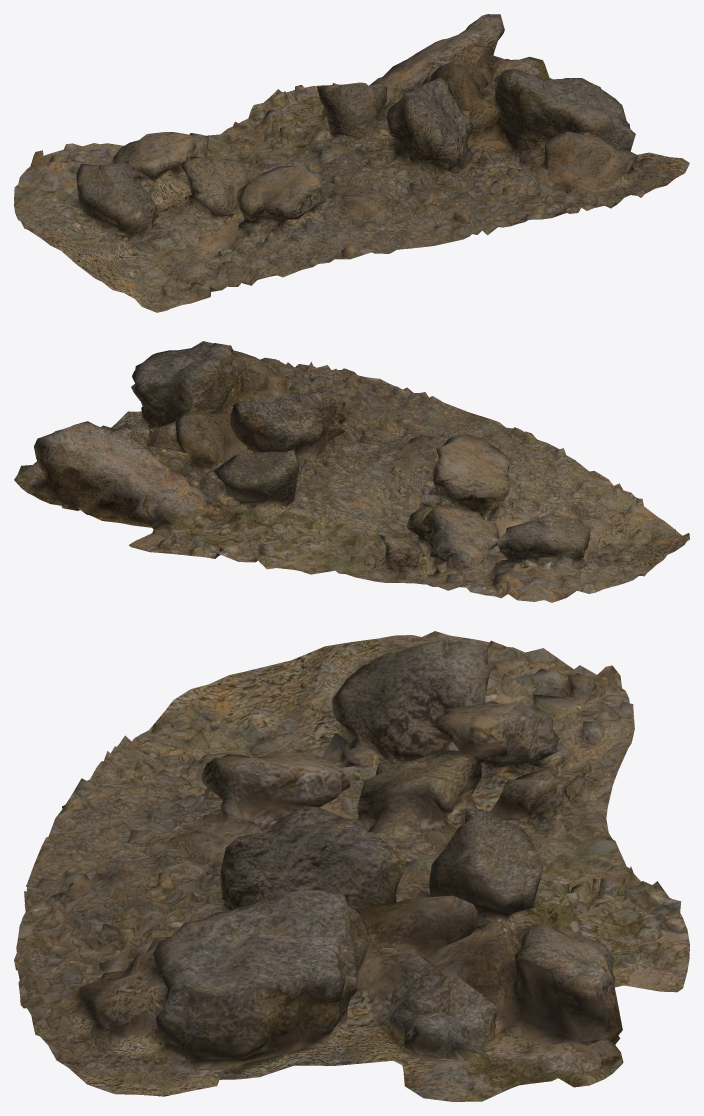
The model's file is coast-rocks-c.glb.
The picture shows the model from 3 angles, top to bottom: view 1: azimuth 30°, elevation 25°; view 2: azimuth 150°, elevation 25°; view 3: azimuth 270°, elevation 25°; orthographic projection. The views are drawn at different scales.
Parts seen in each view (by area): view 1: Coastal limestone - Poly Haven Coast Land Rocks 03; view 2: Coastal limestone - Poly Haven Coast Land Rocks 03; view 3: Coastal limestone - Poly Haven Coast Land Rocks 03.
Boxes of the visible parts, left/top/right/bottom form: Coastal limestone - Poly Haven Coast Land Rocks 03: left=14, top=14, right=689, bottom=312; Coastal limestone - Poly Haven Coast Land Rocks 03: left=14, top=341, right=689, bottom=602; Coastal limestone - Poly Haven Coast Land Rocks 03: left=14, top=631, right=689, bottom=1101.
Bounding box in the file's own units: 8 × 1.36 × 5.01.
Materials: 1 (1 with a texture image).
